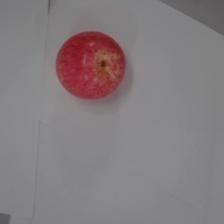red: (56, 32, 126, 99)
